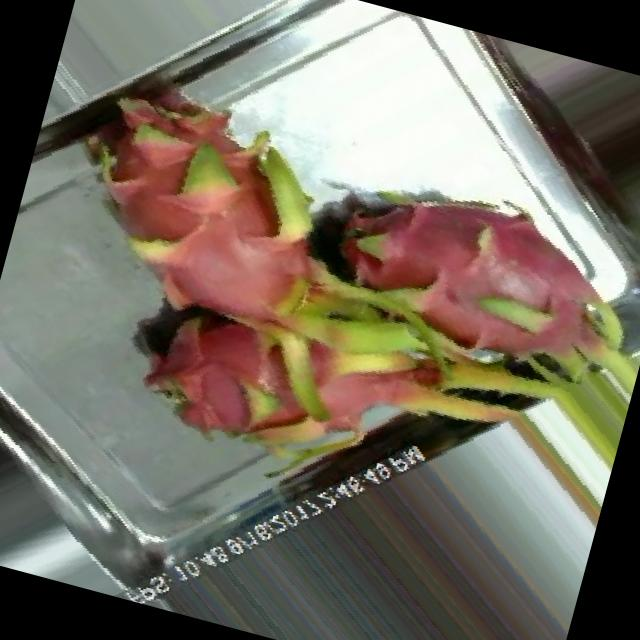Fruit: (27, 51, 252, 302), (97, 266, 340, 486)
